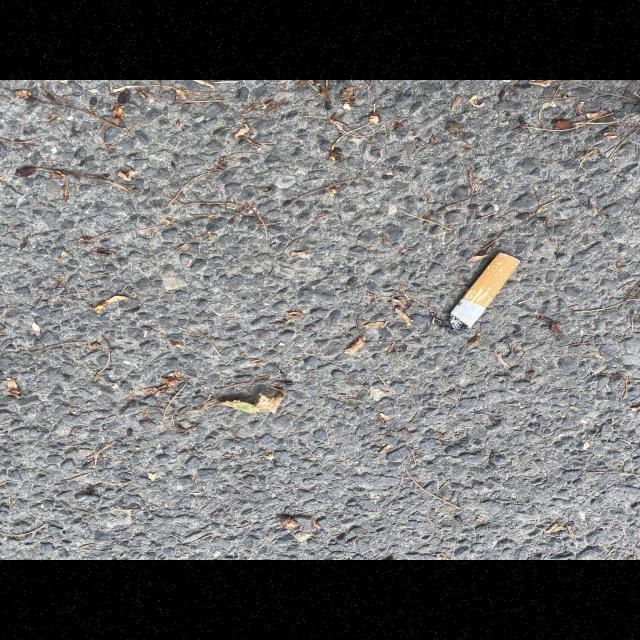other waste: (448, 252, 520, 330)
